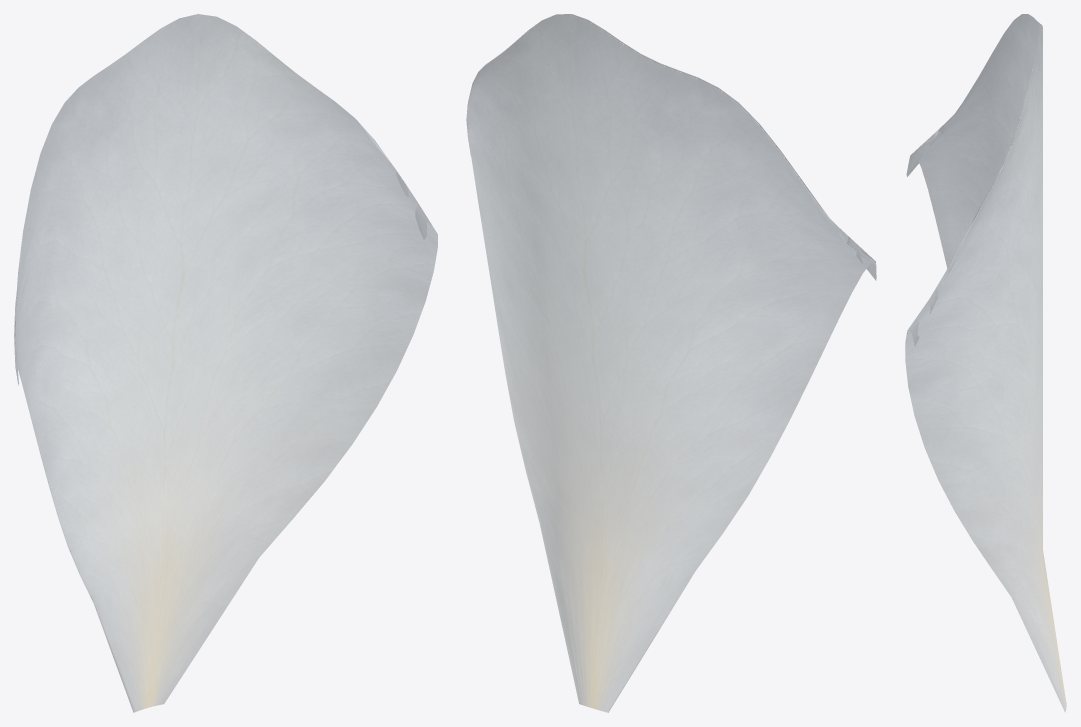
The model's file is inner_02.glb.
The picture shows the model from 3 angles, left to right: view 1: azimuth 30°, elevation 25°; view 2: azimuth 150°, elevation 25°; view 3: azimuth 270°, elevation 25°; orthographic projection. The views are drawn at different scales.
Visible parts, largest first — view 1: inner_02; view 2: inner_02; view 3: inner_02.
Part boxes in pixels (bbox=[...]): inner_02: bbox=[14, 14, 437, 712]; inner_02: bbox=[466, 14, 876, 712]; inner_02: bbox=[905, 14, 1066, 712].
Size of the model in its own units: 0.0398 by 0.0629 by 0.0134.
Materials: 1 (1 with a texture image).
